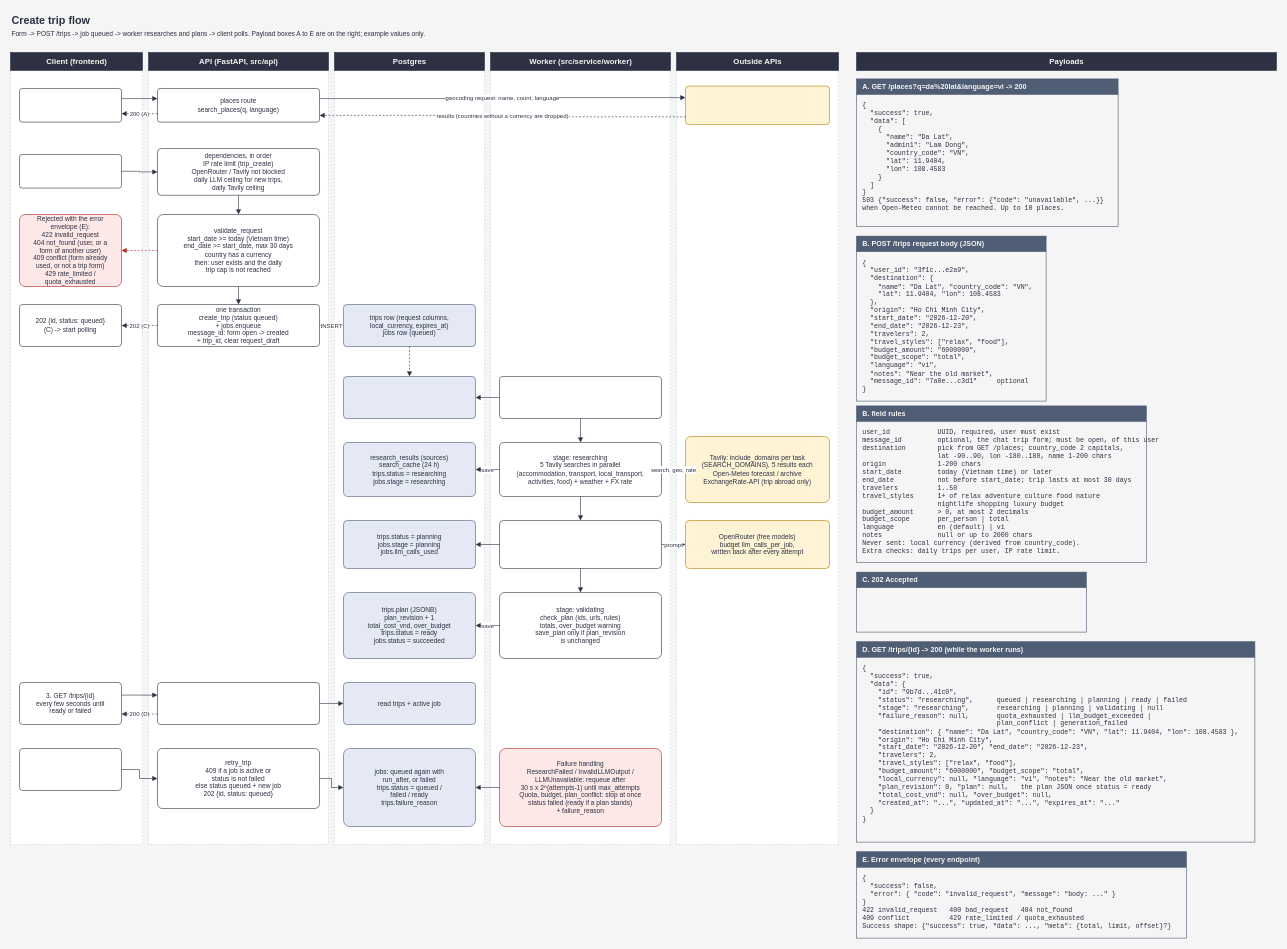
Image size: 1287x949. Some labels were removed from this diagram. The shapes that lost their labels are listed below. From the top down, each one's centre as x and y in pixels, then its label:
(70,105): 1. GET /places ?q=da lat&language=vi
(757,105): Open-Meteo geocoding no key, count=10 cached 30 days in search_cache
(70,171): 2. POST /trips body = B (form fields)
(409,397): jobs: queued -> running lease + attempts + 1
(580,397): lease_next FOR UPDATE SKIP LOCKED polls every 2 s
(580,544): stage: planning generate_plan: 1 LLM call, repair once, then next model
(971,609): { "success": true, "data": { "id": "9b7d...41c0", "status": "queued" } }
(238,703): get_trip row + running job's stage
(70,769): POST /trips/{id}/retry only when status = failed
